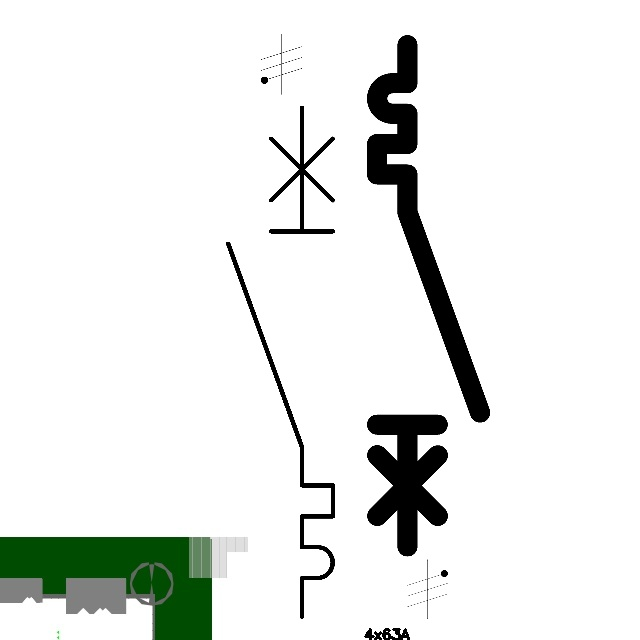interruptor_termomagnetico: (215, 94, 346, 629), (364, 32, 493, 559)
